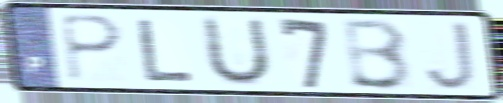7: (277, 15, 331, 91)
B: (342, 16, 415, 93)
J: (423, 19, 479, 93)
L: (136, 16, 197, 83)
P: (57, 12, 126, 84)
U: (201, 13, 275, 89)
